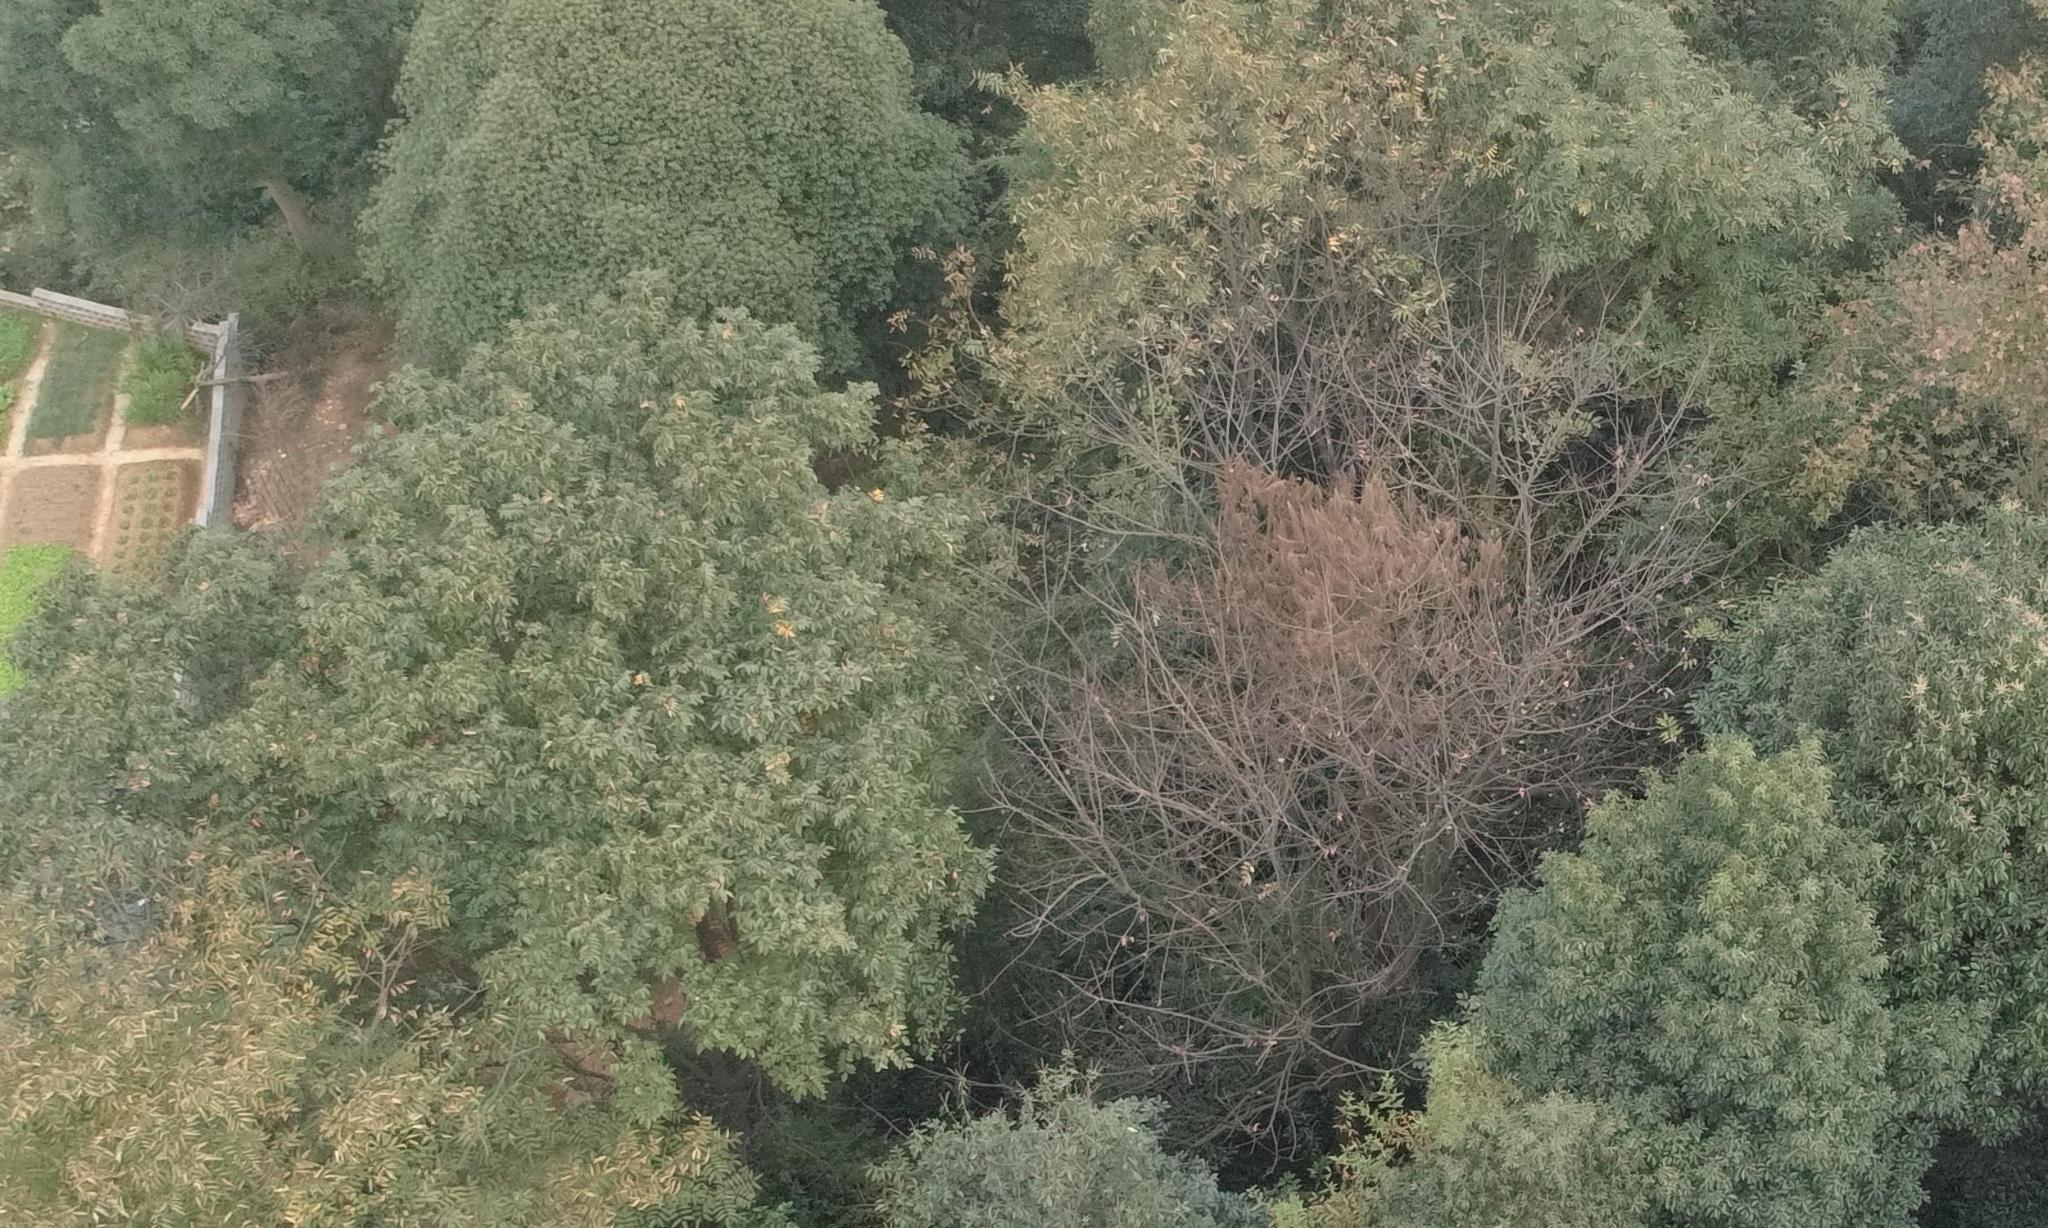heavy: (1129, 434, 1510, 776)
